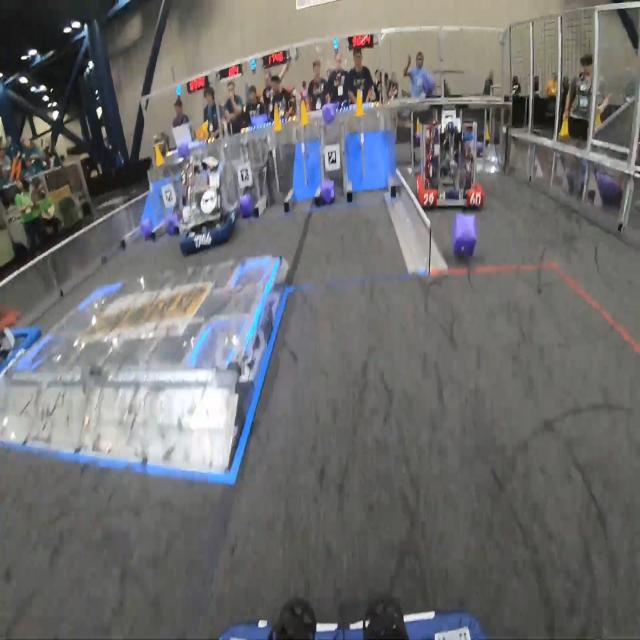robot: (414, 118, 484, 210), (180, 154, 238, 258), (0, 320, 44, 377)
